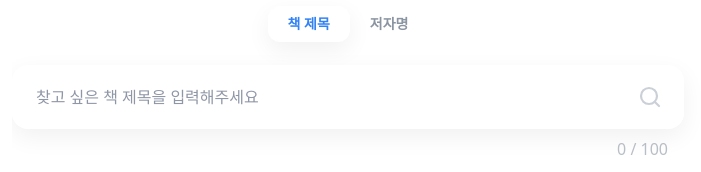
Test case: BookSearchStart › 검색어를 입력하면 검색할 수 있고 글자 수를 볼 수 있다
Type "파친코" into the field at x=348, y=97, box [12,65,684,129]
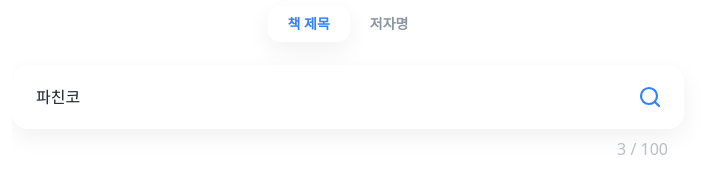
Expected: the button named "검색" is enabled, [628,75,672,119]
